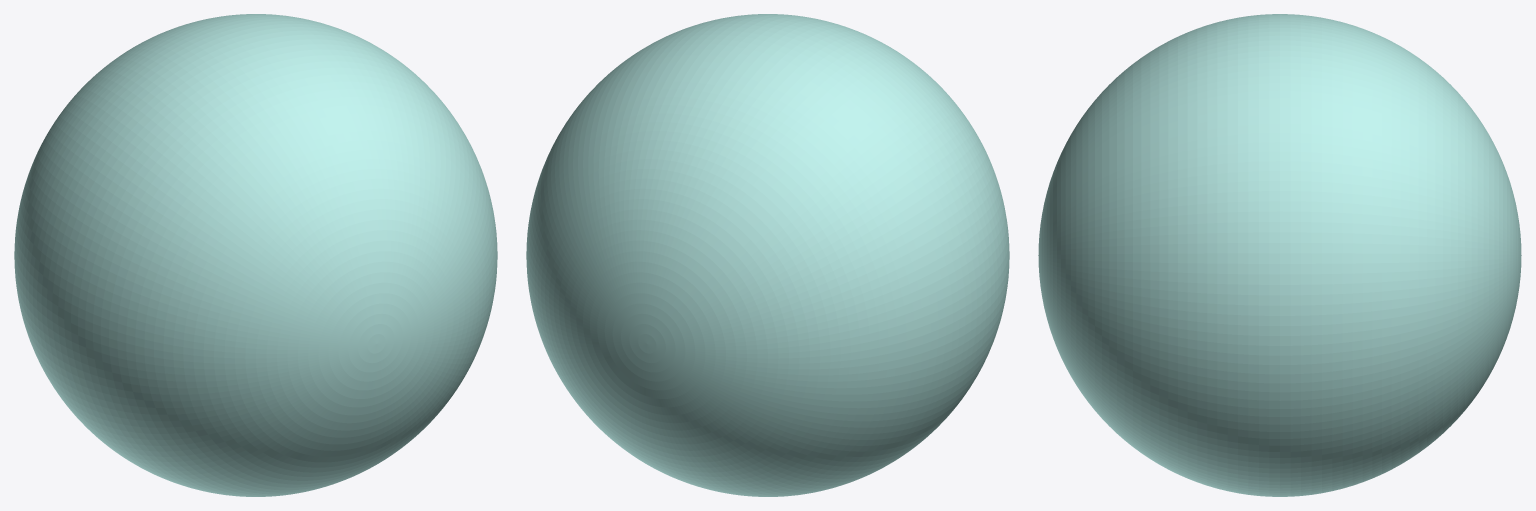
The model's file is EEZYbotARM_Mk2_robot_base_vis_5.dae.
The picture shows the model from 3 angles, left to right: view 1: azimuth 30°, elevation 25°; view 2: azimuth 150°, elevation 25°; view 3: azimuth 270°, elevation 25°; orthographic projection.
Visible parts, largest first — view 1: node; view 2: node; view 3: node.
Boxes of the visible parts, left/top/right/bottom form: node: left=14, top=14, right=497, bottom=496; node: left=526, top=14, right=1009, bottom=496; node: left=1038, top=14, right=1521, bottom=496.
Bounding box in the file's own units: 0.006 × 0.006 × 0.006.
